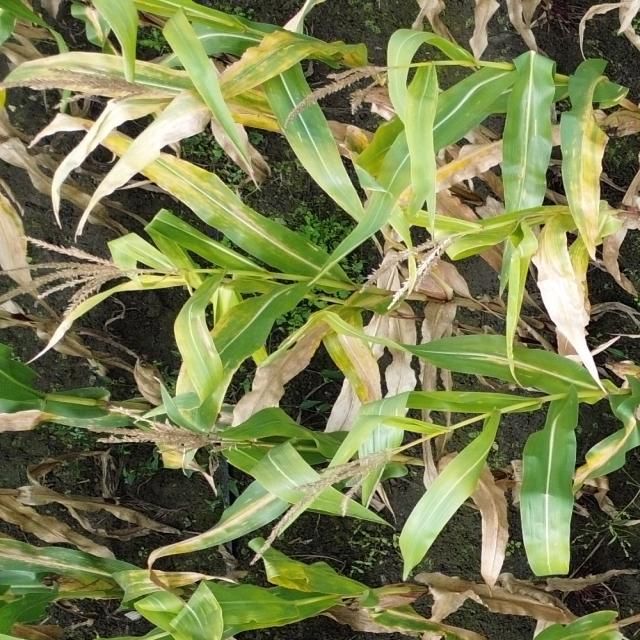gray-leaf-spot: (275, 88, 323, 146), (559, 137, 588, 194), (57, 409, 123, 433)
northern-leaf-blight: (179, 481, 275, 550), (3, 534, 106, 574), (212, 196, 282, 243), (582, 421, 630, 483), (186, 312, 226, 364)
